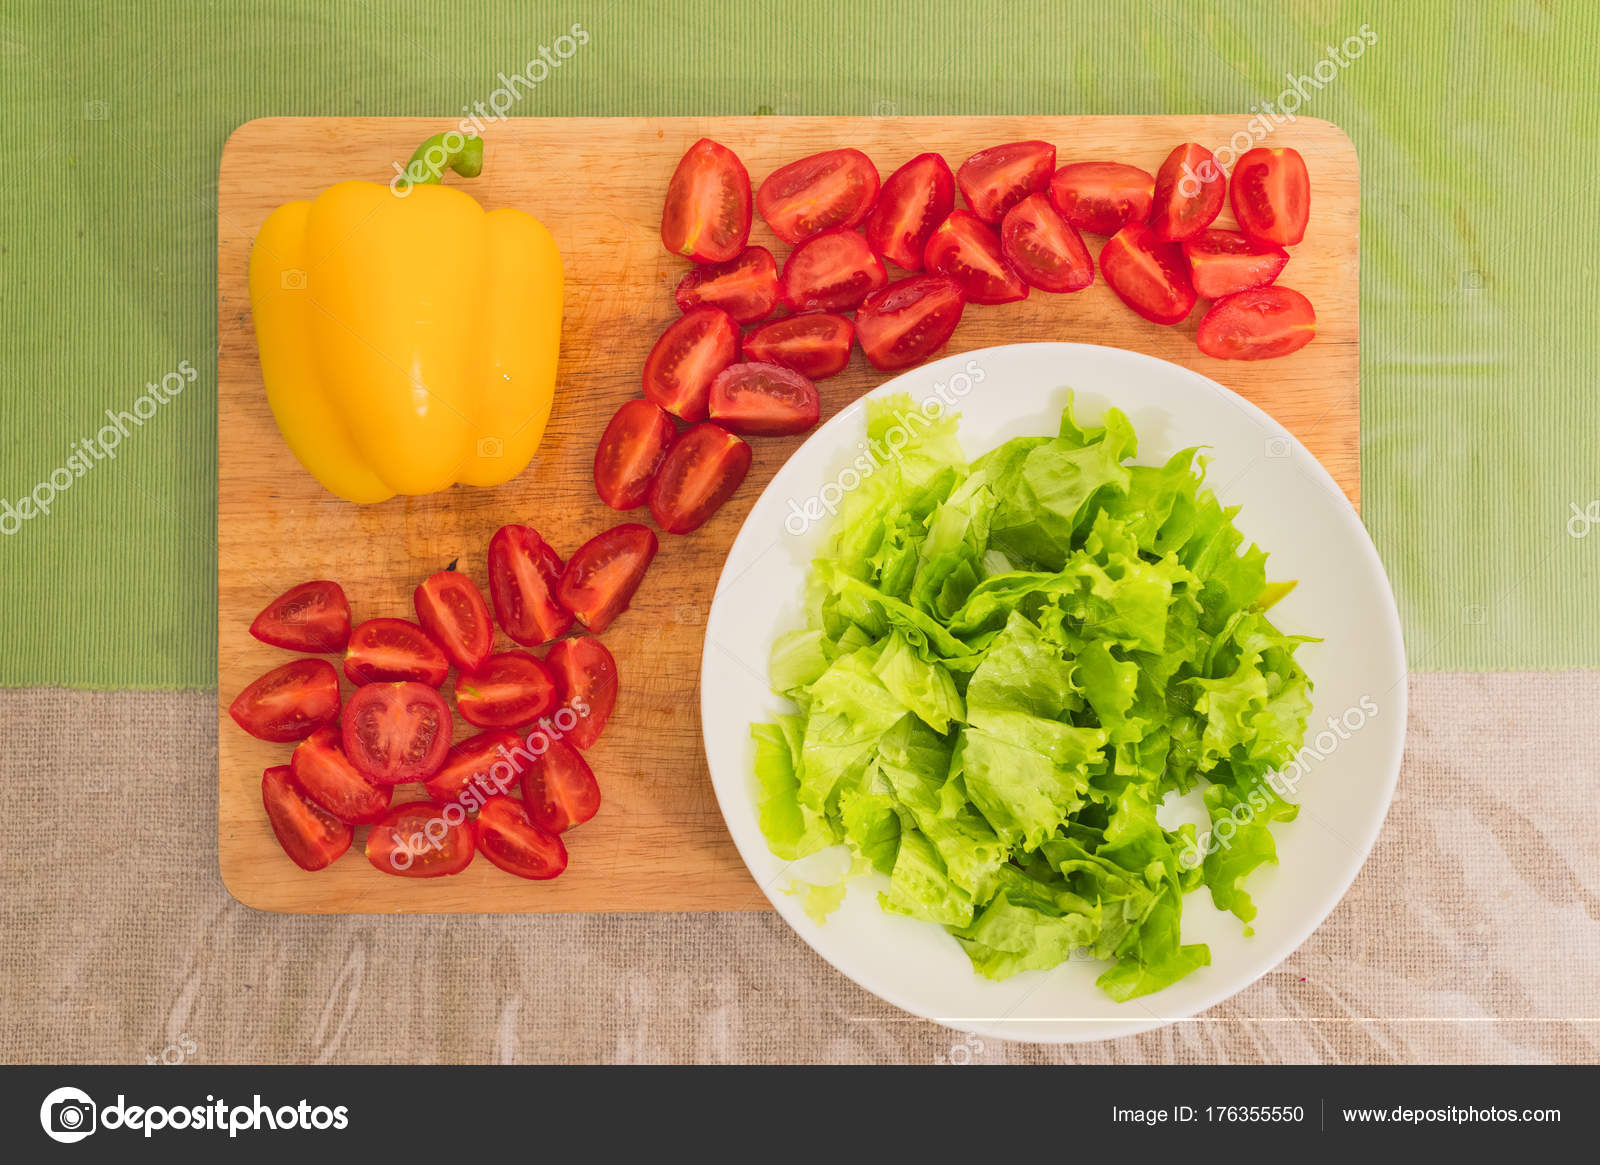chopped lettuce: (868, 469, 1232, 930)
